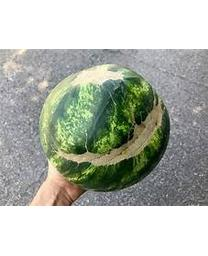watermelon: (39, 63, 172, 194)
